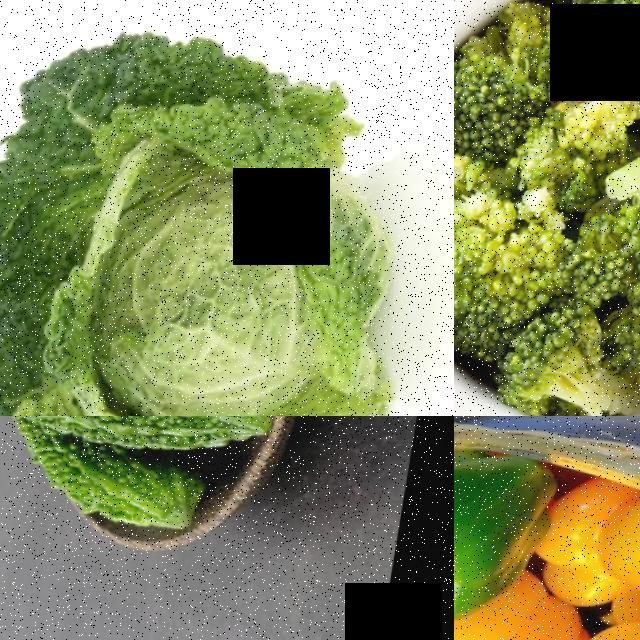bell pepper: (454, 464, 525, 616), (555, 503, 640, 603)
bitter gourd: (30, 453, 211, 543)
broccoli: (454, 162, 572, 365), (504, 317, 640, 416), (576, 0, 640, 103)
cabbage: (0, 0, 454, 416)
